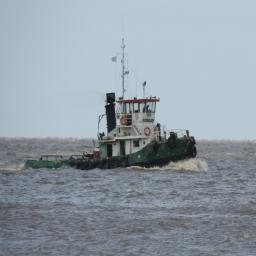tugboat: (22, 92, 200, 177)
